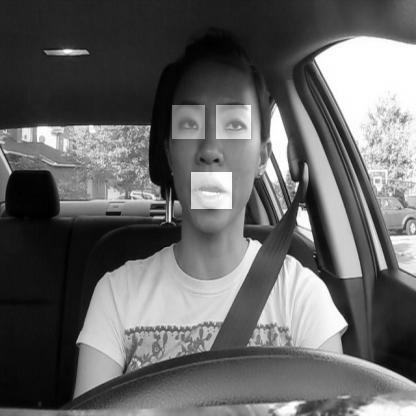seatbelt: (139, 19, 289, 350)
